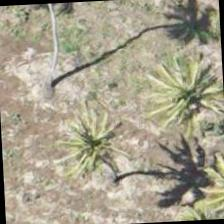Kelapa_Sawit: (47, 97, 142, 192), (133, 46, 223, 141)
